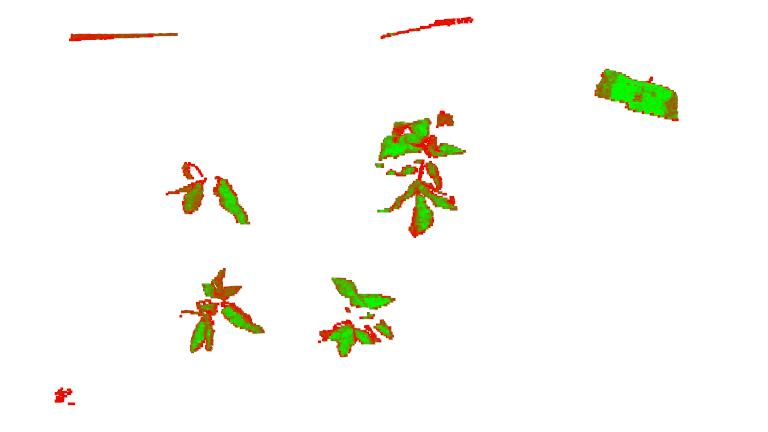mungbean: (374, 109, 468, 239), (180, 268, 267, 354), (316, 275, 397, 359), (164, 160, 252, 229)
